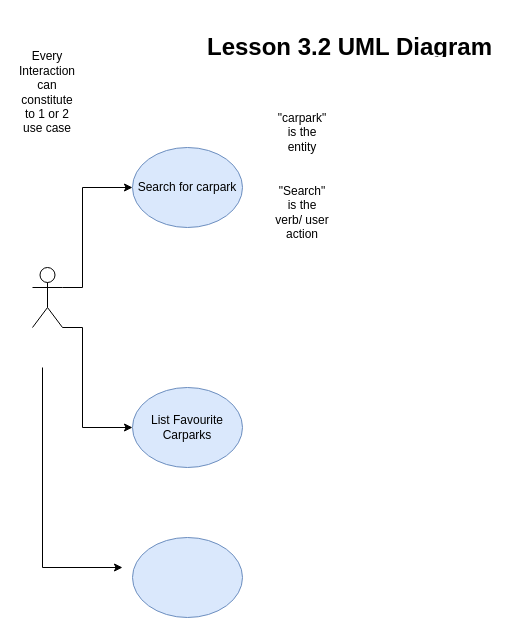
This 529x635 diagram has some shape labels left out. Here are the shapes that lost their labels. From the top down, the centre of each, then its label:
At pixel 47 297: "User".
At pixel 187 577: "Save Favourite Carparks".
